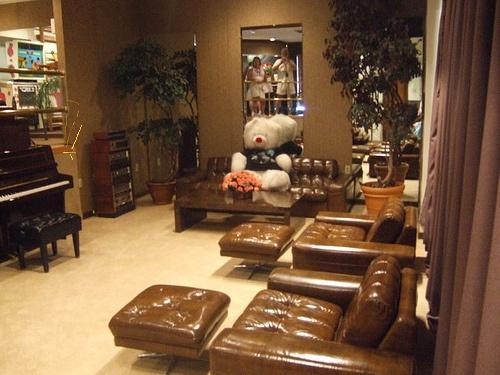tampered: (64, 101, 83, 160)
